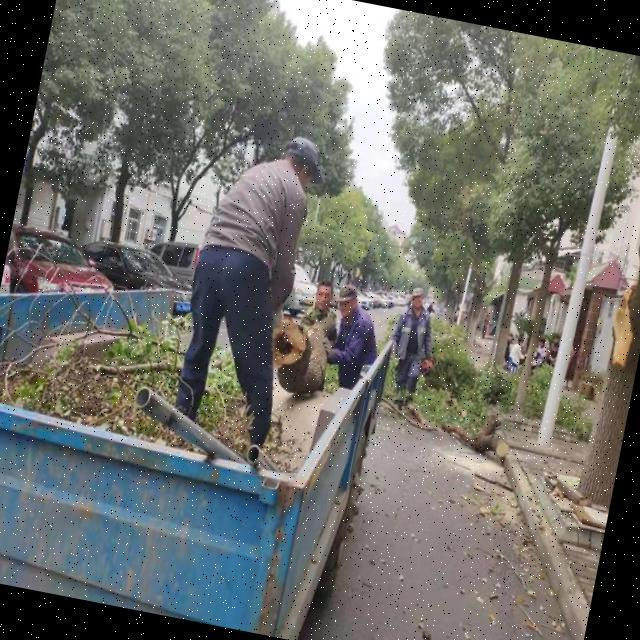fallen_object: (260, 300, 351, 408)
